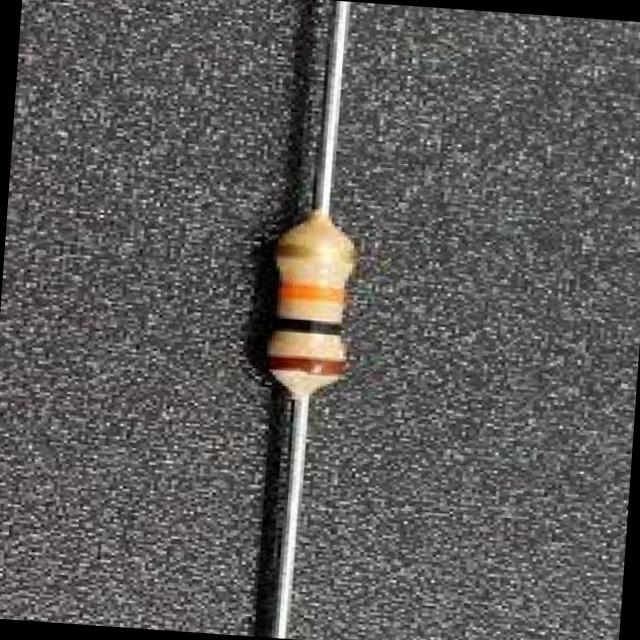Resistor: (268, 215, 353, 395)
brown: (269, 355, 346, 375)
gold: (276, 242, 355, 261)
orange: (279, 283, 345, 303)
